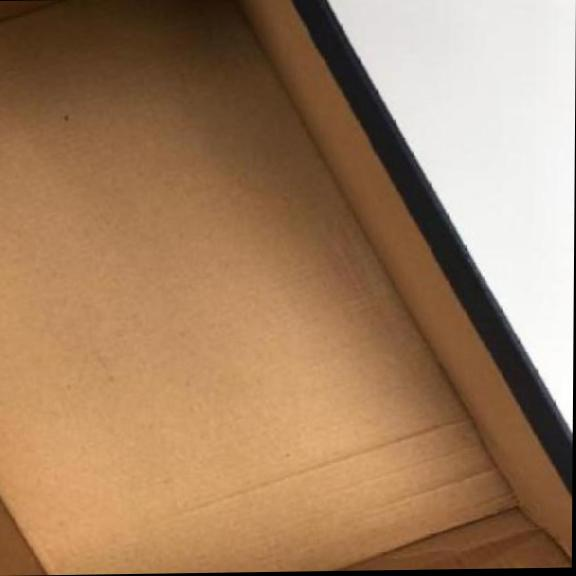Kertas: (0, 0, 571, 576)
